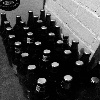beer: (12, 41, 22, 77)
